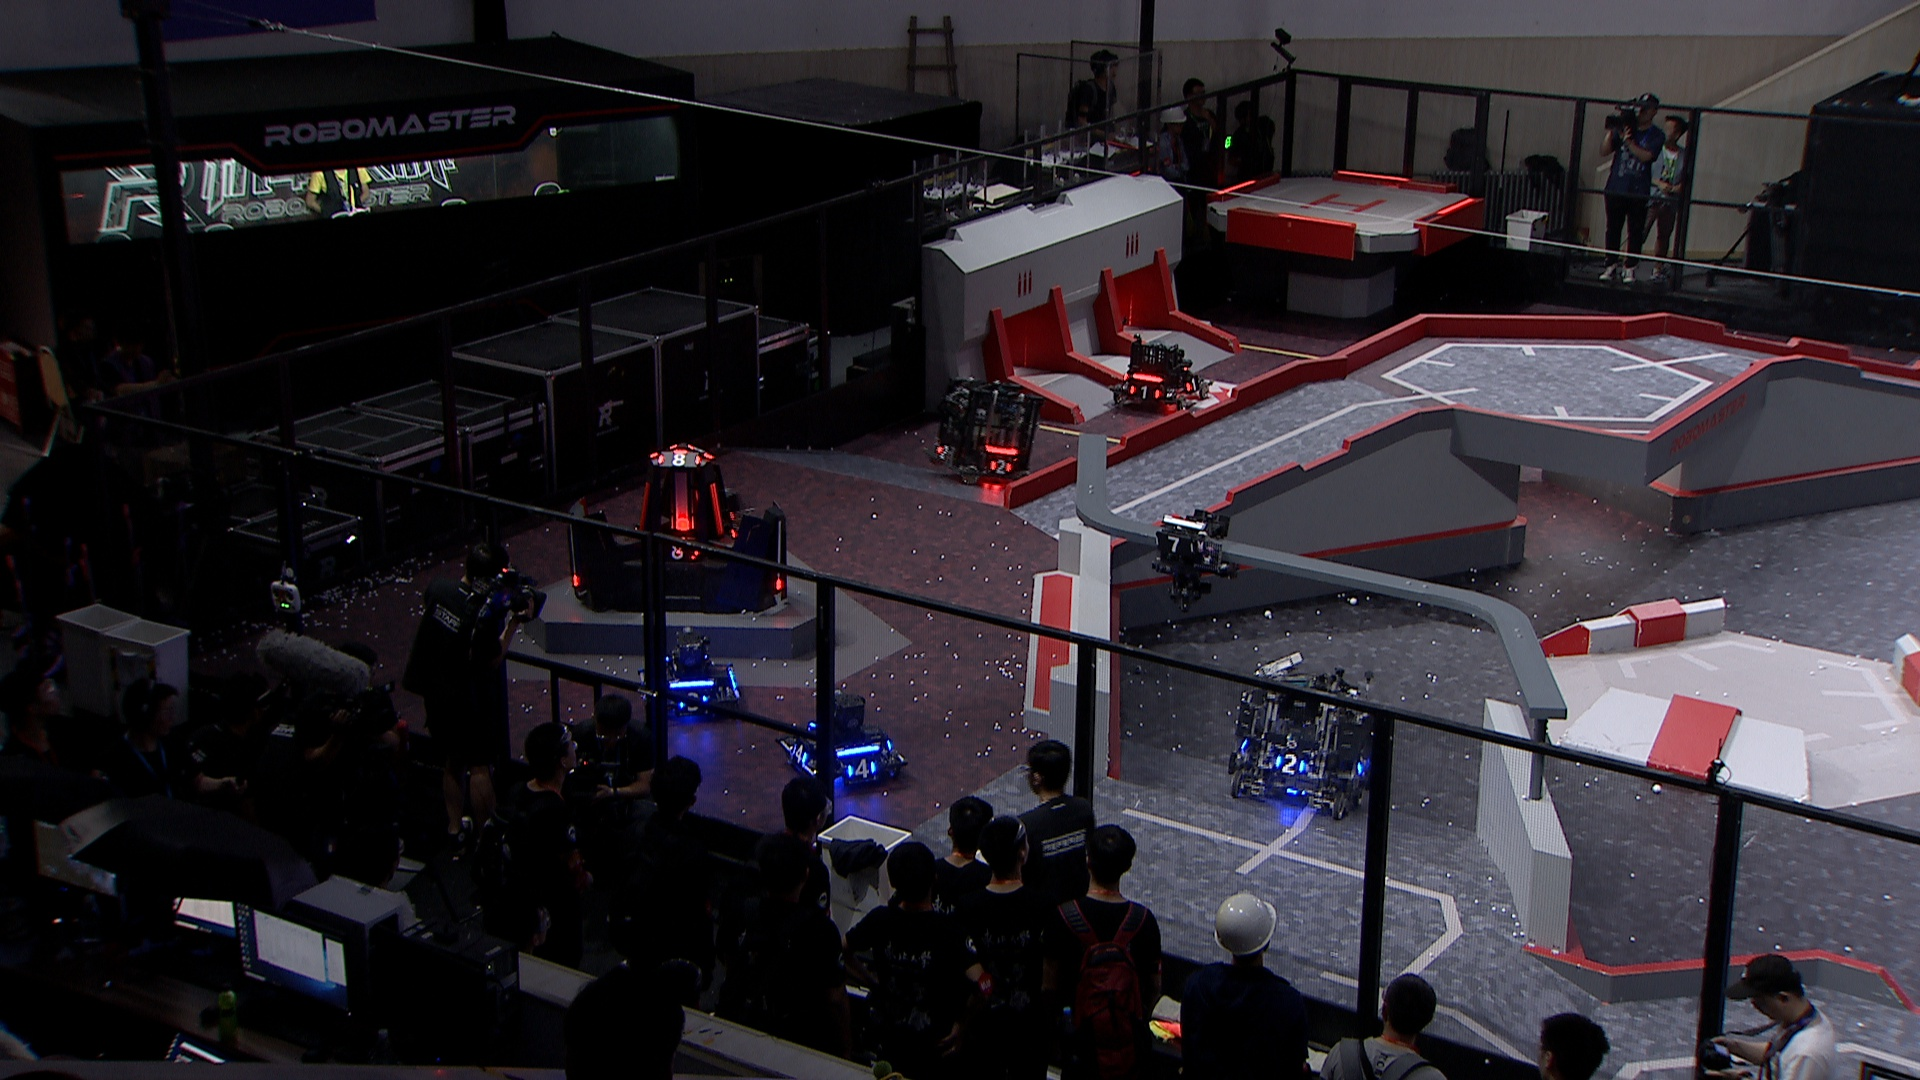armor: (709, 480, 728, 541), (1153, 534, 1196, 559), (636, 479, 654, 535), (1271, 750, 1305, 779), (676, 690, 713, 716), (843, 756, 880, 781), (657, 454, 705, 469), (1126, 384, 1164, 404), (666, 545, 702, 564), (986, 458, 1015, 476), (671, 512, 694, 534), (789, 742, 808, 765), (931, 442, 953, 462), (1183, 375, 1201, 394), (1353, 756, 1371, 775), (568, 571, 583, 588), (773, 575, 785, 591)
base: (564, 442, 793, 617)
car: (1225, 654, 1391, 818), (778, 687, 910, 793), (926, 372, 1040, 491), (636, 626, 745, 727), (1112, 334, 1207, 414)
watcher: (1149, 504, 1236, 609)
